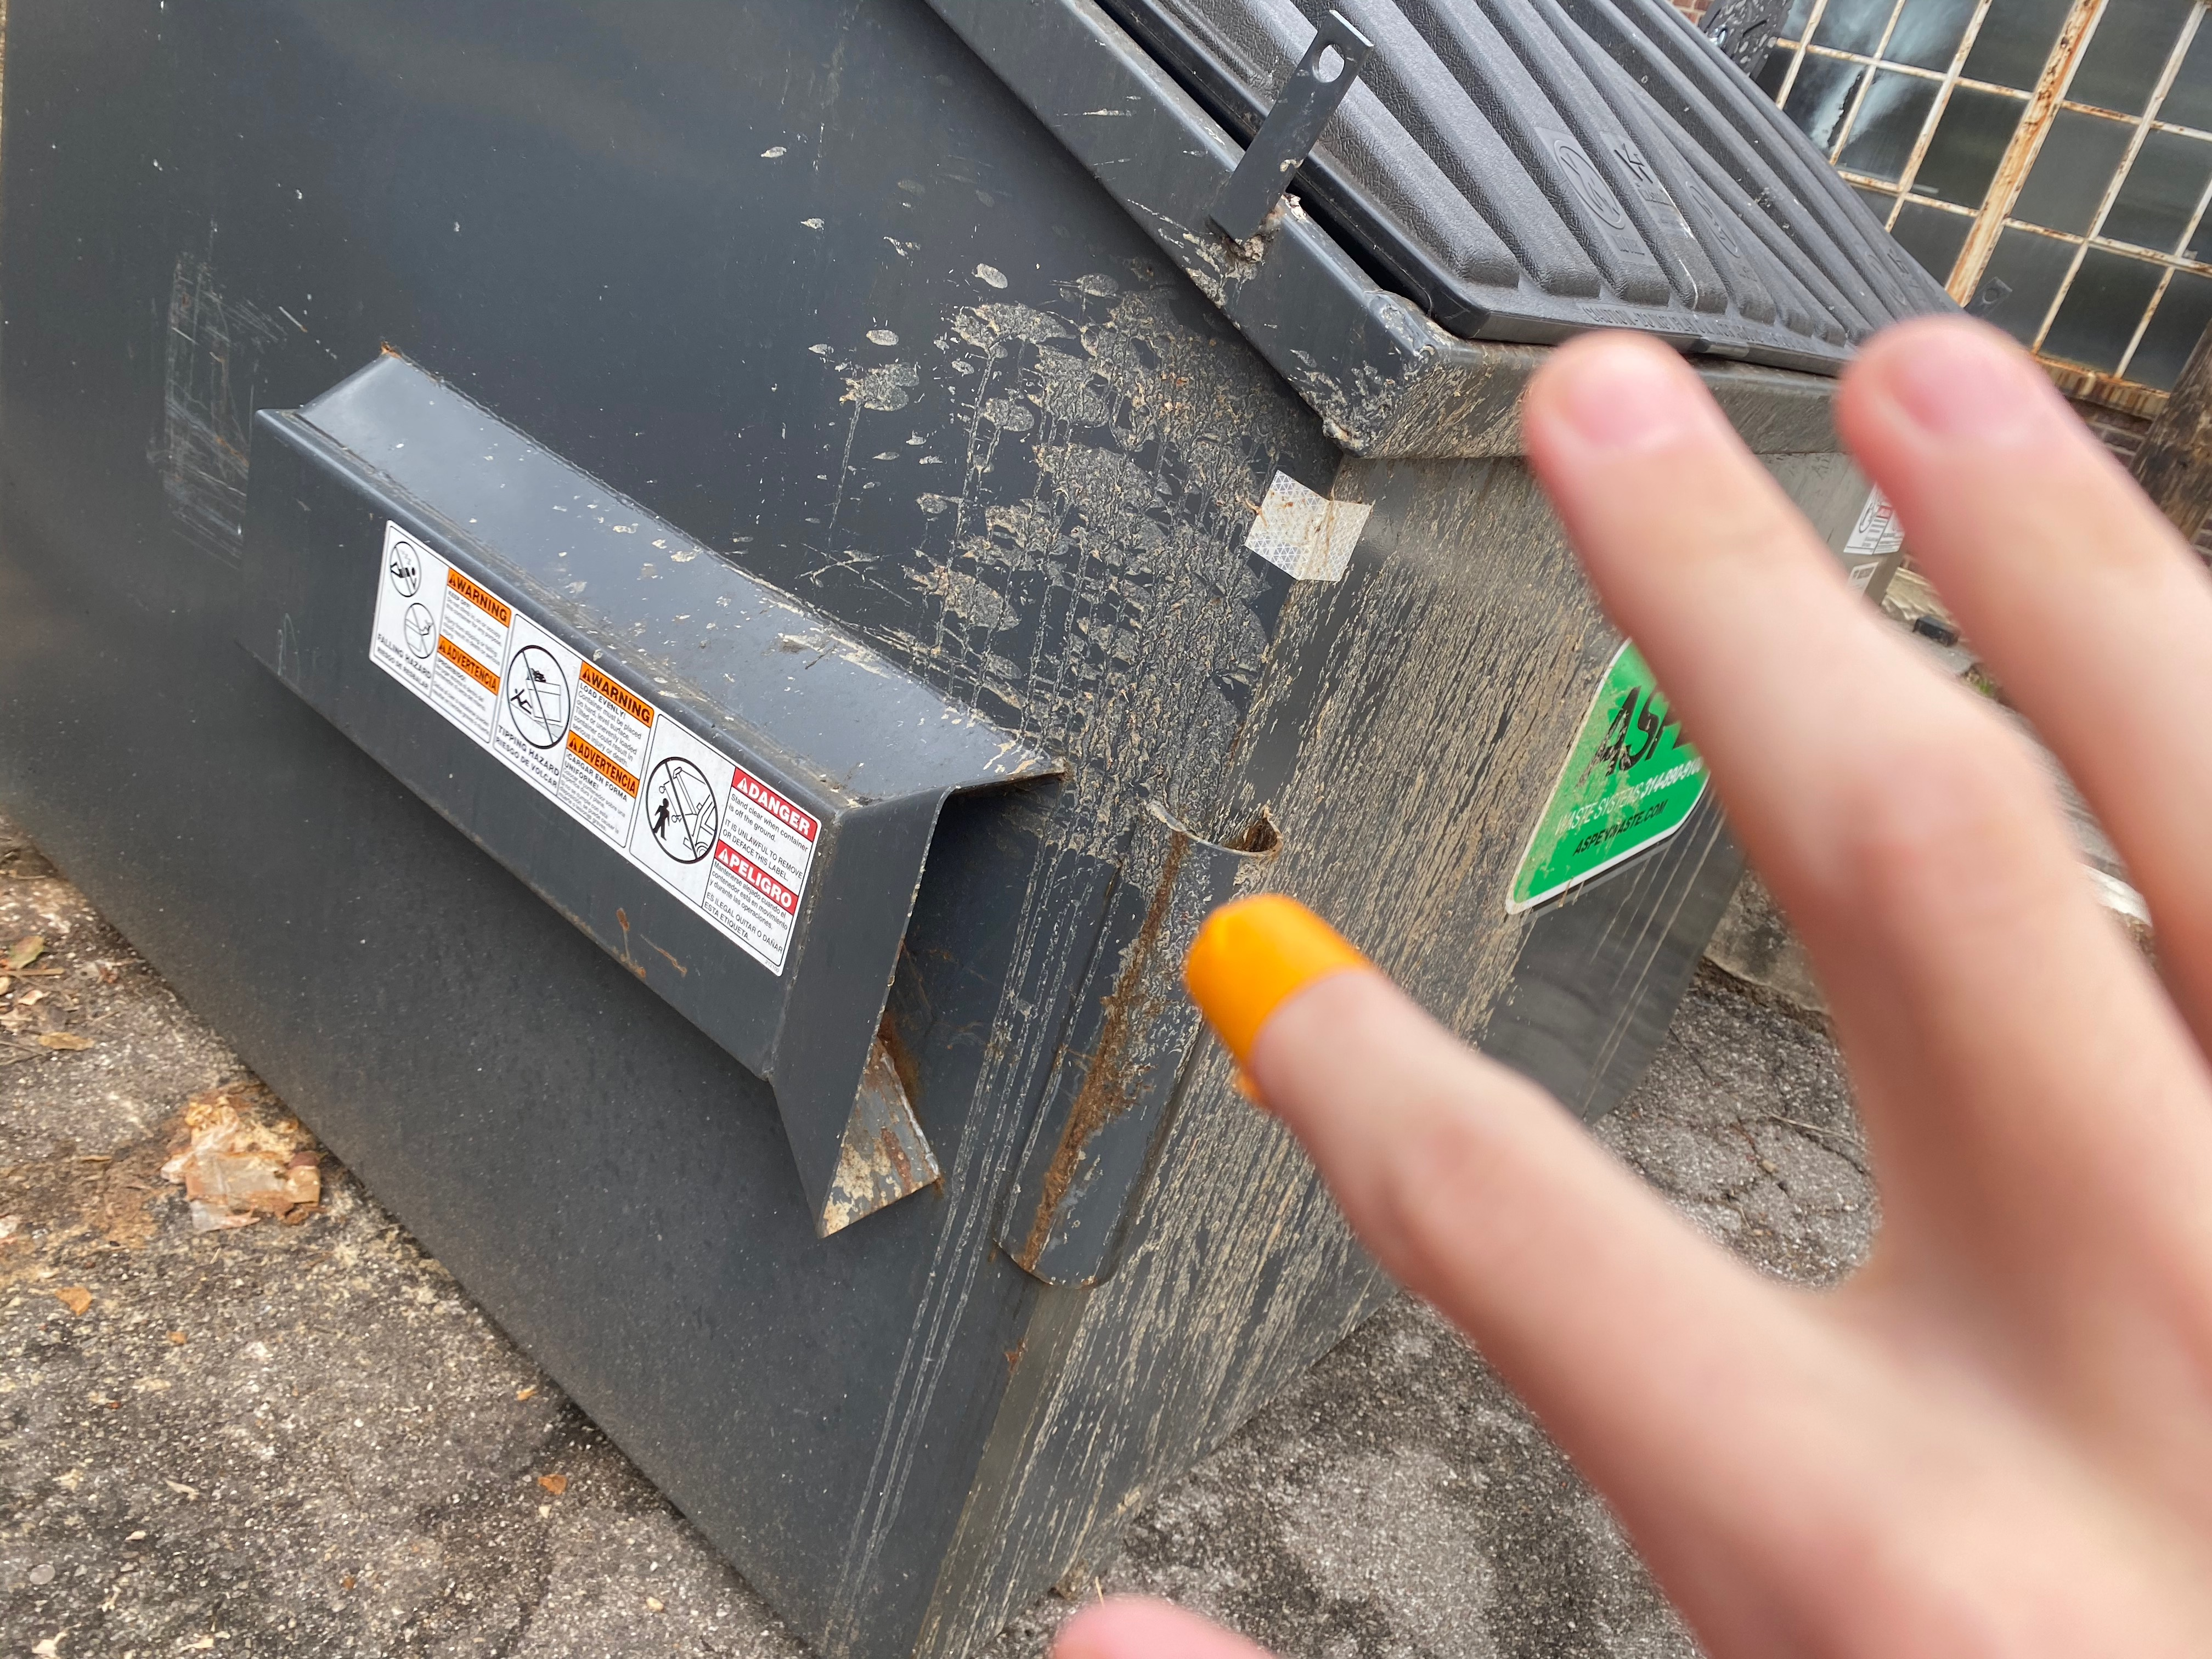fingertip: (1150, 875, 1409, 1100)
